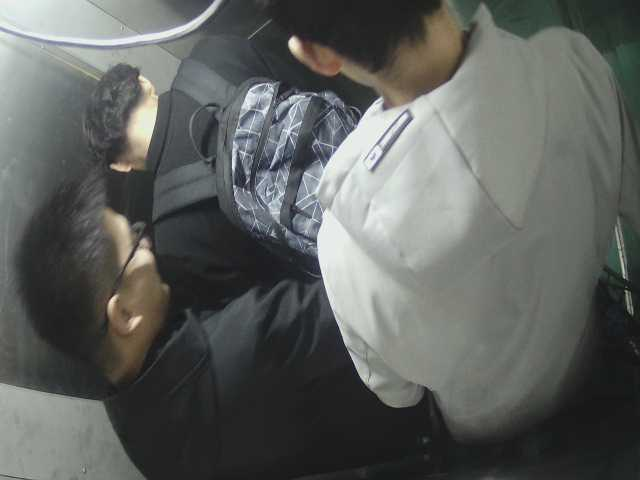bag: (186, 60, 381, 249)
person: (270, 3, 617, 435), (14, 180, 460, 479), (79, 27, 350, 280)
